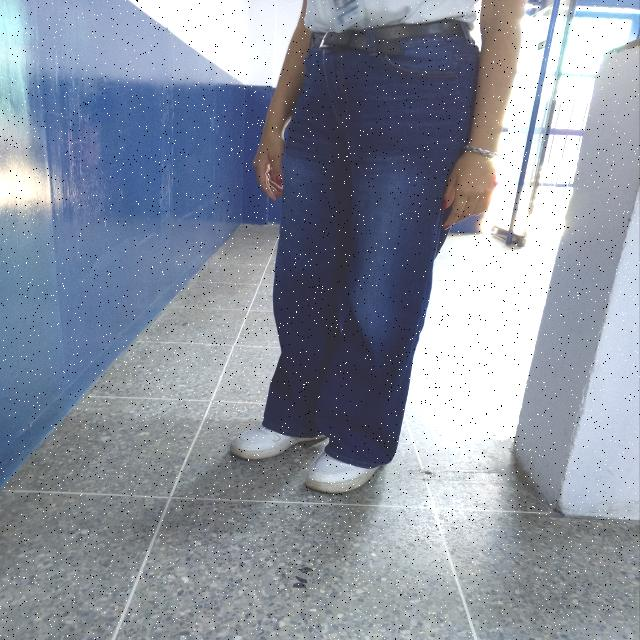carnet: (331, 0, 362, 25)
pantalon_oscuro: (260, 29, 483, 470)
